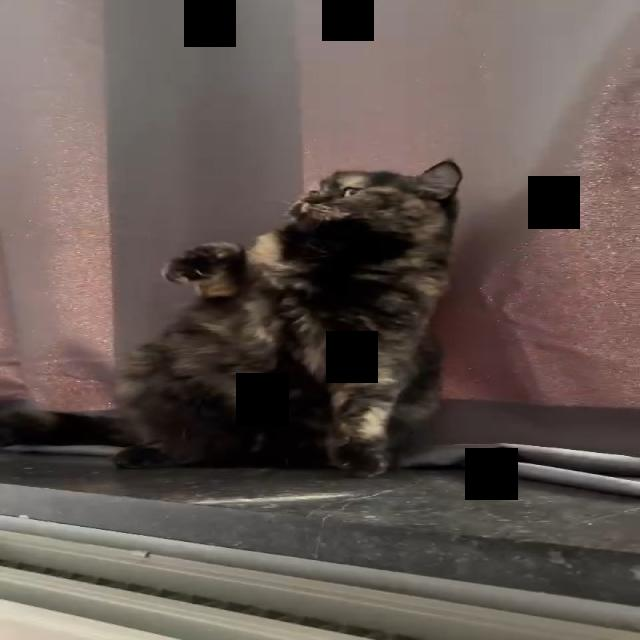authorized: (1, 158, 464, 478)
